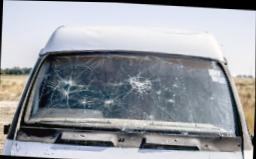Windshield: (27, 46, 243, 143)
